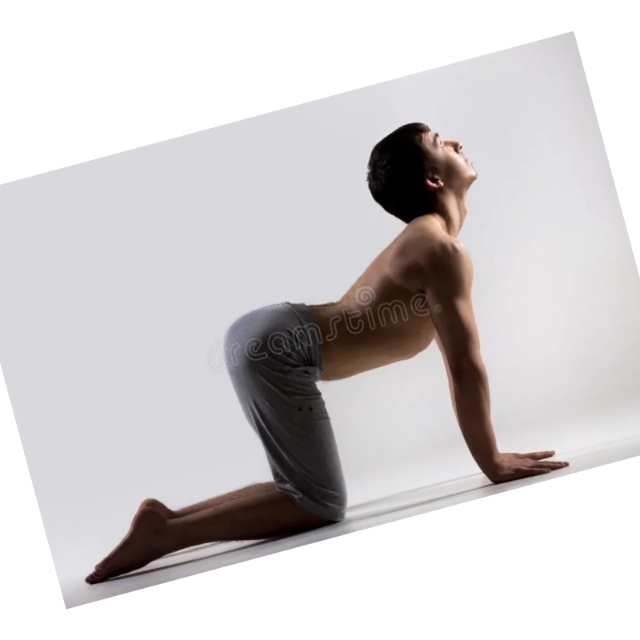Cow_Pose: (85, 121, 573, 588)
